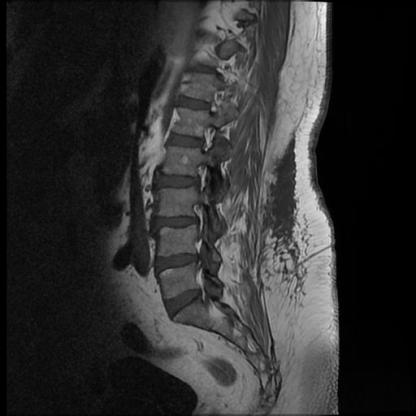Degenerative Disc Diseaserotation: (154, 251, 199, 271)
Disc Bulgerotation: (173, 277, 196, 321), (155, 251, 200, 271), (156, 173, 198, 193), (154, 215, 198, 234), (168, 132, 206, 151)
